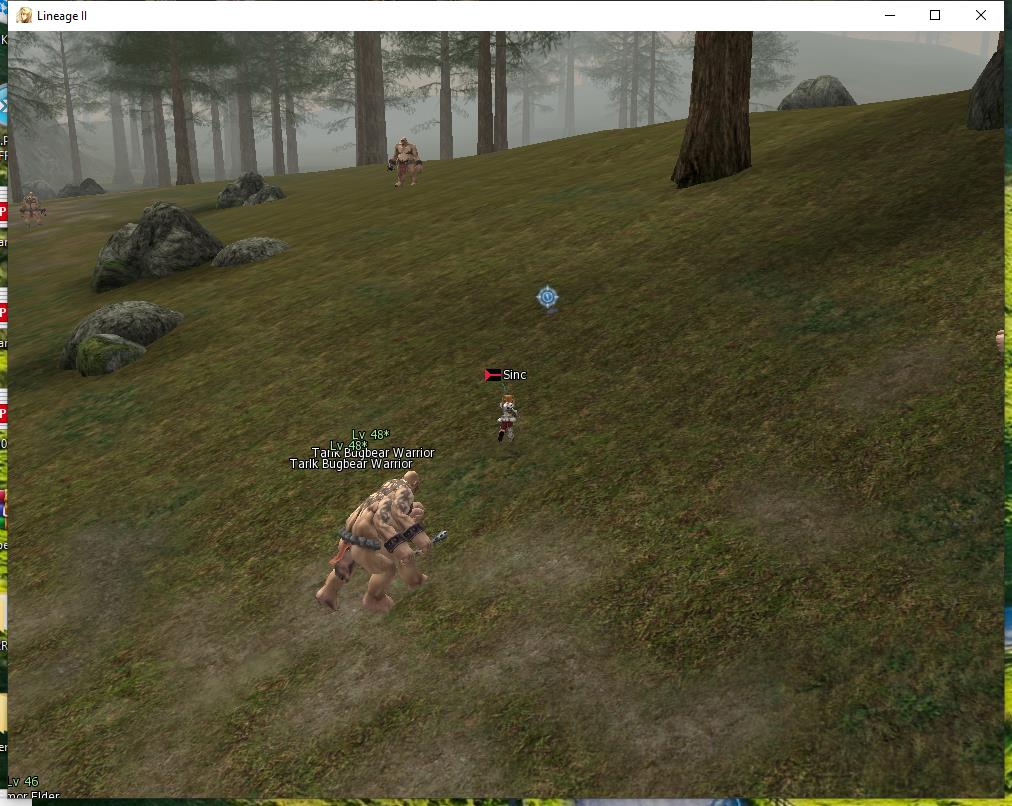monster: (298, 414, 442, 628), (385, 130, 434, 205)
